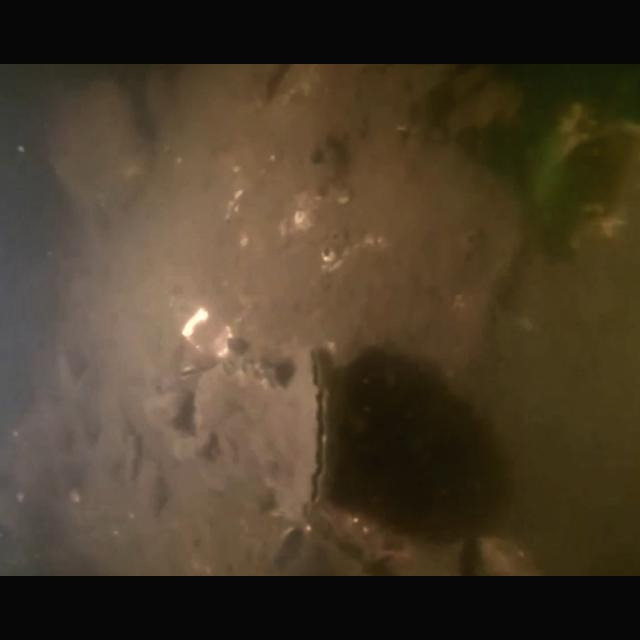Oyster-Open: (253, 345, 343, 525), (190, 356, 288, 504)
